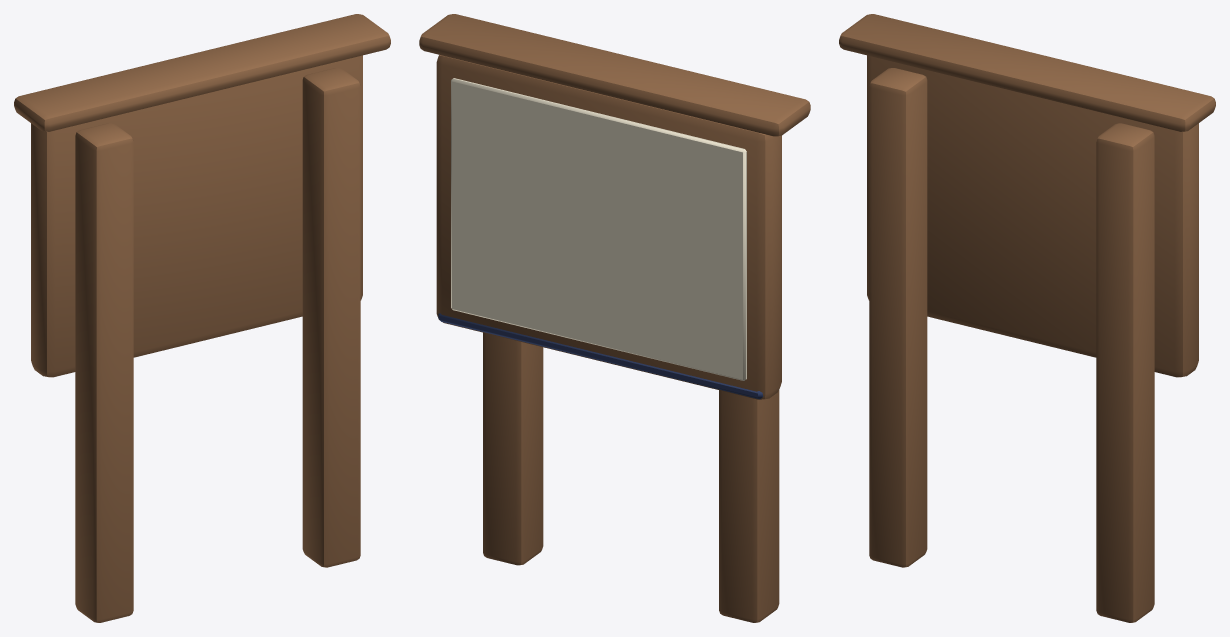
Rendered from TeeSign.fbx.
3 views of the same model, side by side, from view 1: azimuth 30°, elevation 25°; view 2: azimuth 150°, elevation 25°; view 3: azimuth 330°, elevation 25° (orthographic). The views are drawn at different scales.
Parts seen in each view (by area): view 1: TeeSign; view 2: TeeSign; view 3: TeeSign.
Boxes of the visible parts, bbox=[...] form: TeeSign: bbox=[14, 14, 390, 622]; TeeSign: bbox=[419, 14, 810, 622]; TeeSign: bbox=[839, 14, 1215, 622].
Size of the model in its own units: 0.74 by 1.03 by 0.1615.
